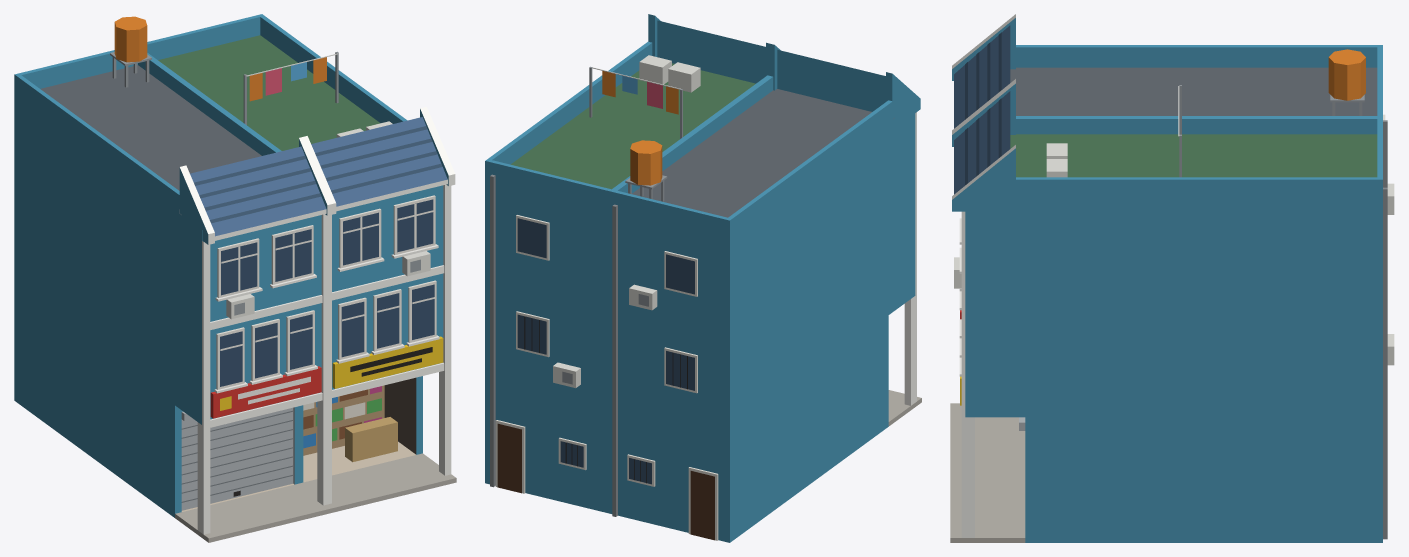
The model's file is ruko_08.glb.
3 views of the same model, side by side, from view 1: azimuth 30°, elevation 25°; view 2: azimuth 150°, elevation 25°; view 3: azimuth 270°, elevation 25° (orthographic). The views are drawn at different scales.
Parts seen in each view (by area): view 1: ruko_08; view 2: ruko_08; view 3: ruko_08.
Boxes of the visible parts, box(x1,y1,x2,y2) form: ruko_08: box(14, 14, 456, 542); ruko_08: box(485, 14, 921, 542); ruko_08: box(950, 14, 1394, 542).
Bounding box in the file's own units: 8.5 × 11.95 × 11.86.
